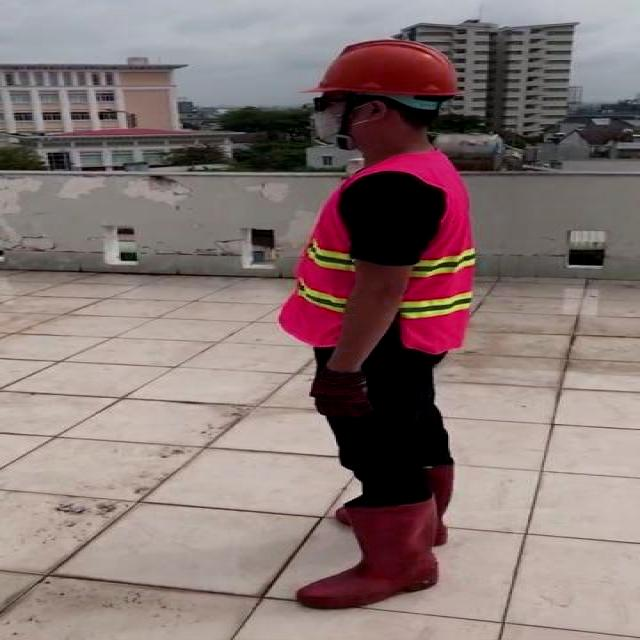boots: (295, 498, 437, 612)
face_mask: (298, 96, 365, 144)
hand_glove: (309, 370, 375, 416)
head_helmet: (308, 35, 466, 99)
person: (270, 32, 477, 610)
vest: (281, 150, 473, 351)
